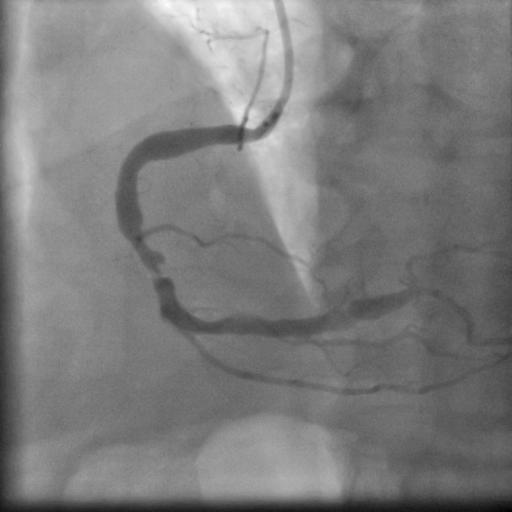Stenosis: (131, 245, 175, 292)
